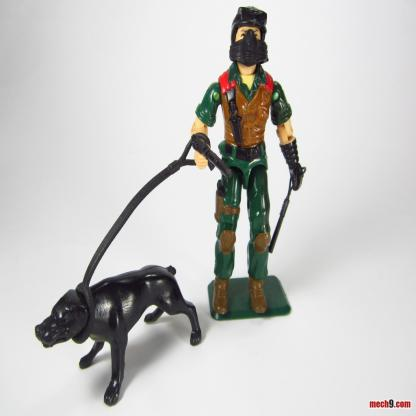Helmet: (226, 5, 275, 66)
